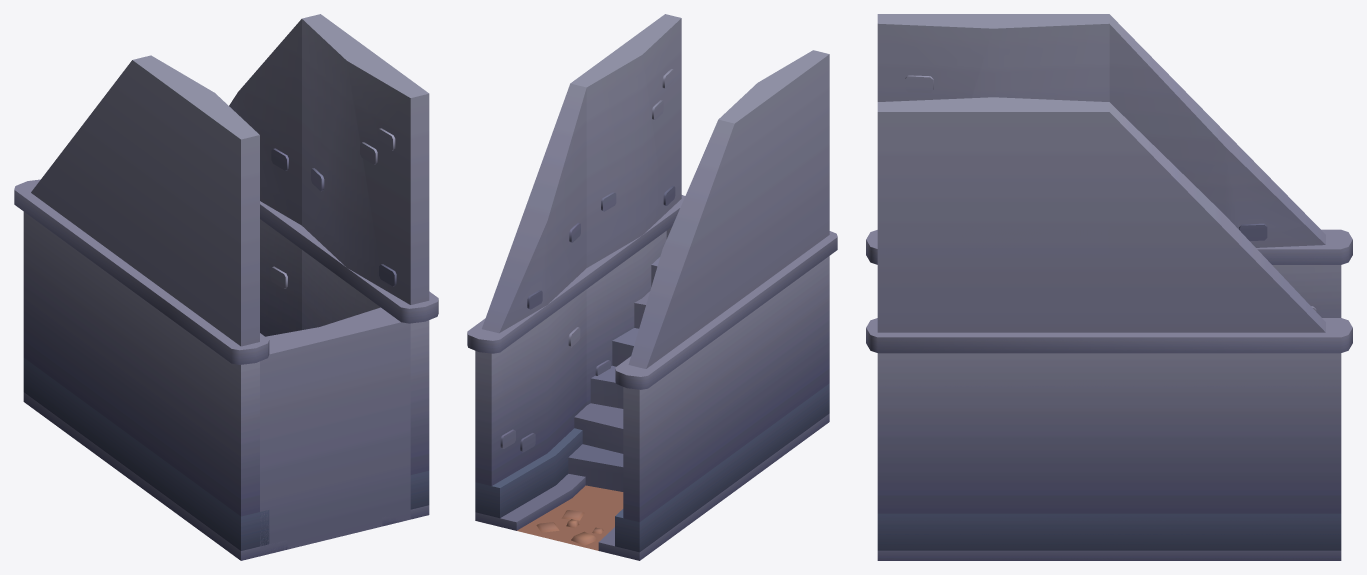
The model's file is stairs.glb.
3 views of the same model, side by side, from view 1: azimuth 30°, elevation 25°; view 2: azimuth 150°, elevation 25°; view 3: azimuth 270°, elevation 25° (orthographic). The views are drawn at different scales.
Visible parts, largest first — view 1: stairs4; view 2: stairs4; view 3: stairs4.
Boxes of the visible parts, x1,y1,x2,y2 form: stairs4: (14, 14, 438, 560); stairs4: (467, 14, 837, 560); stairs4: (866, 14, 1352, 560).
Size of the model in its own units: 4.4 by 8.55 by 8.4.
Materials: 1 (1 with a texture image).
